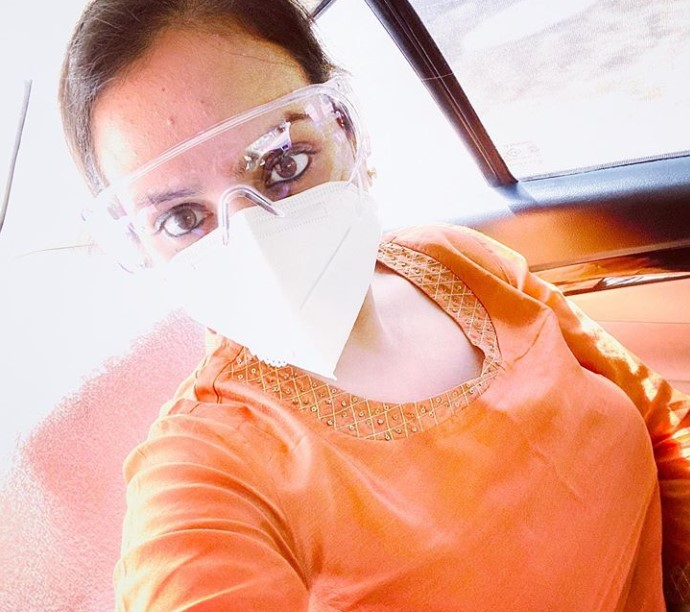face_with_mask: (56, 6, 389, 382)
